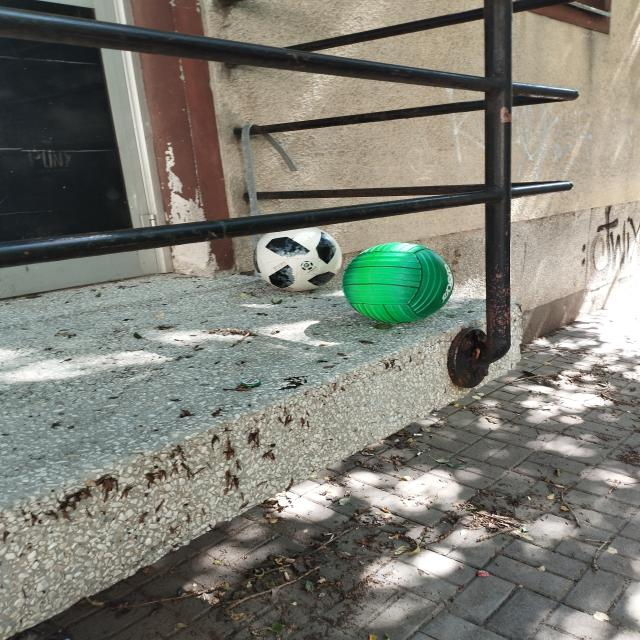nozna: (253, 226, 341, 292)
zielona: (342, 242, 455, 323)
